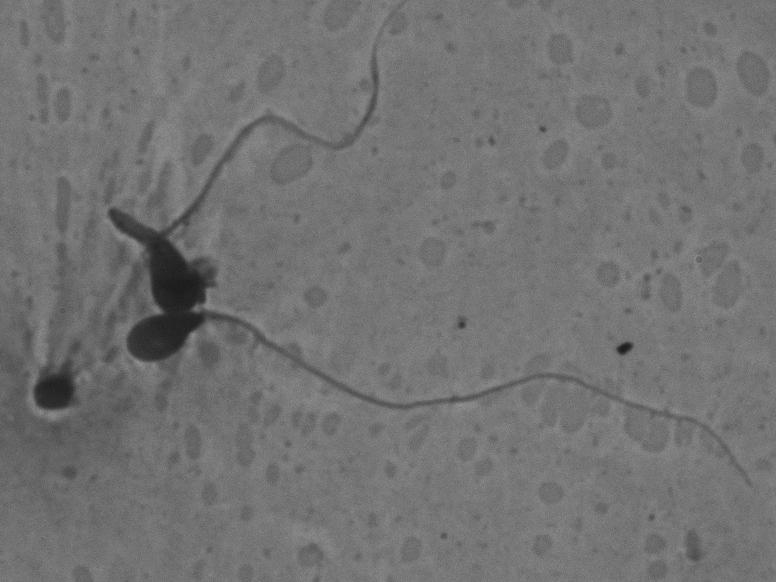Abnormal: (114, 298, 770, 502), (91, 20, 432, 316)
